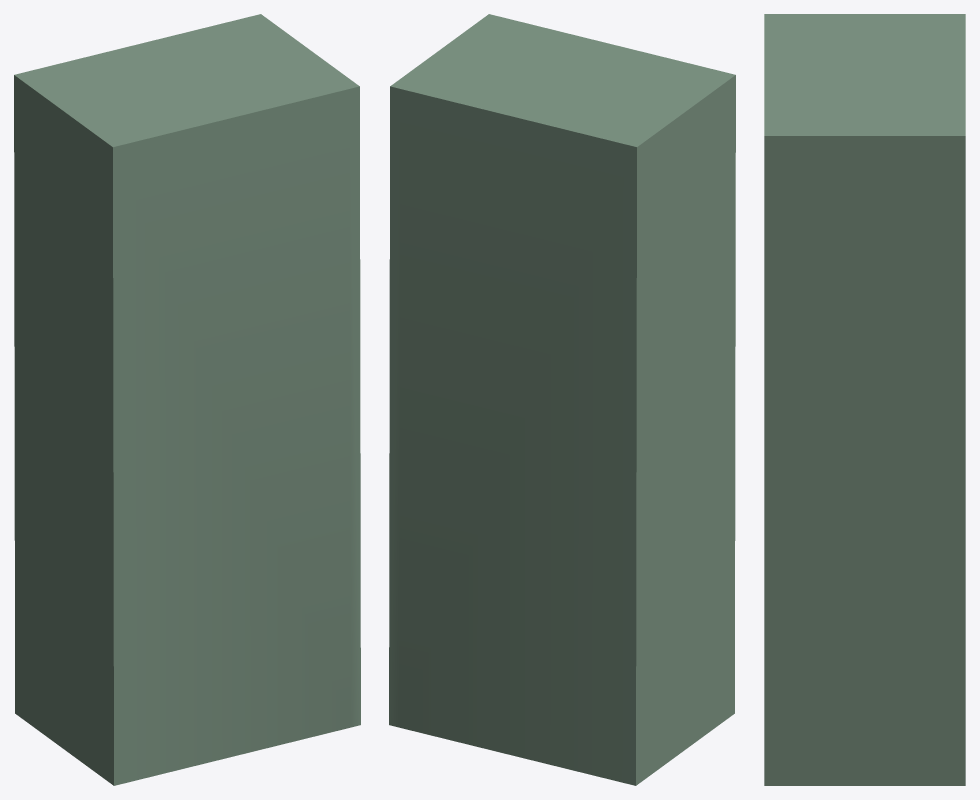
File: MSH_QuestObject_cabinet_09.fbx
3 renders of one model, left to right at view 1: azimuth 30°, elevation 25°; view 2: azimuth 150°, elevation 25°; view 3: azimuth 270°, elevation 25°, orthographic.
Parts seen in each view (by area): view 1: MSH_QuestObject_cabinet_09; view 2: MSH_QuestObject_cabinet_09; view 3: MSH_QuestObject_cabinet_09.
Part boxes in pixels (x1=…): MSH_QuestObject_cabinet_09: x1=14, y1=14, x2=360, y2=785; MSH_QuestObject_cabinet_09: x1=389, y1=14, x2=735, y2=785; MSH_QuestObject_cabinet_09: x1=764, y1=14, x2=965, y2=785.
Bounding box in the file's own units: 1.43 × 3.52 × 0.9864.
